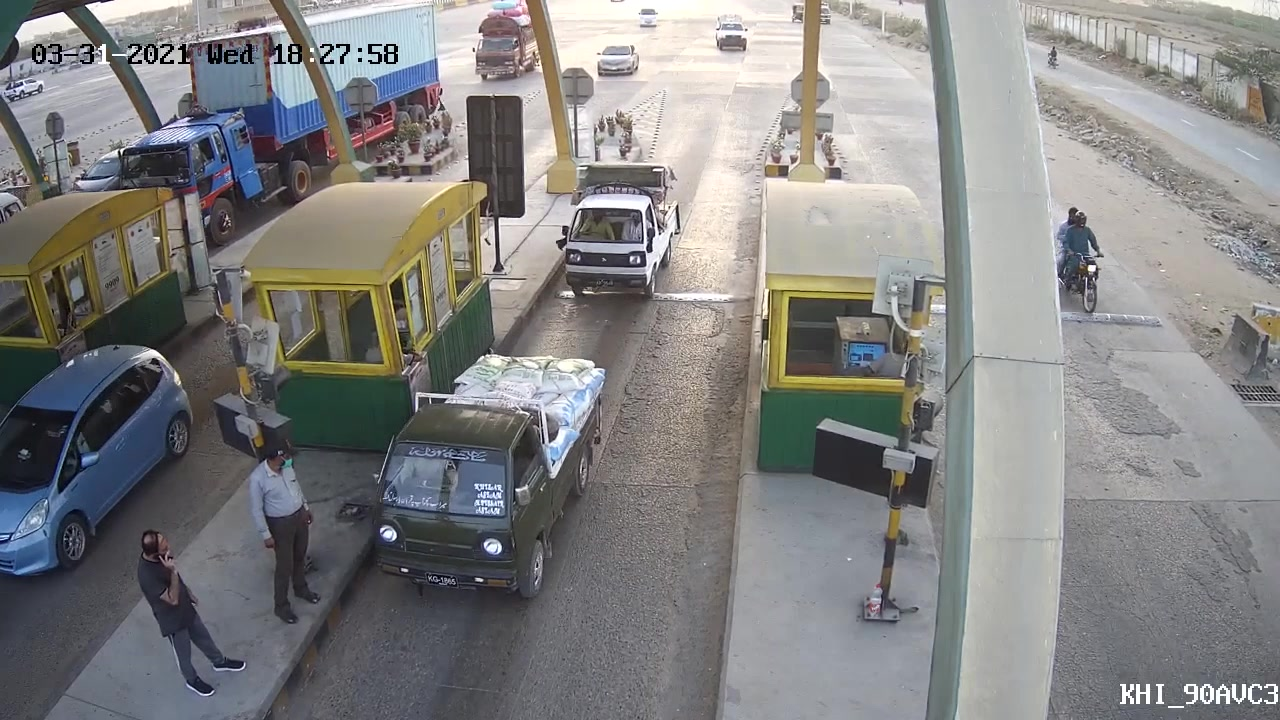F1: (360, 348, 616, 604), (552, 153, 697, 308)
